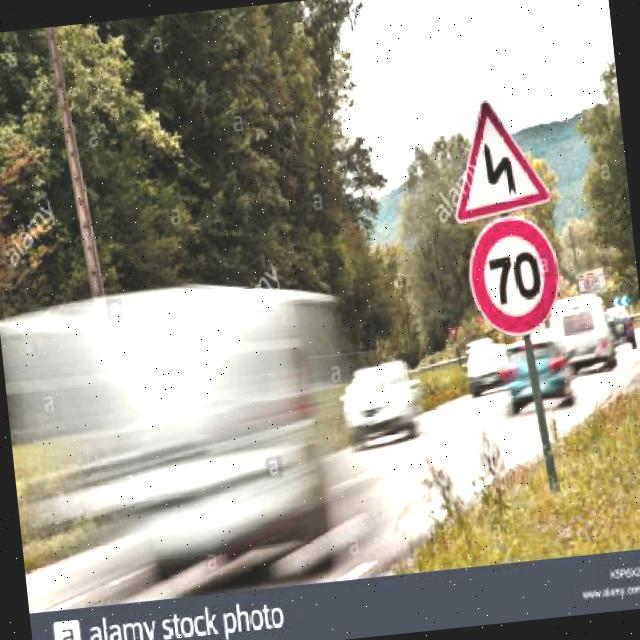Ograniczenie predkosci do 70: (461, 214, 568, 348)
